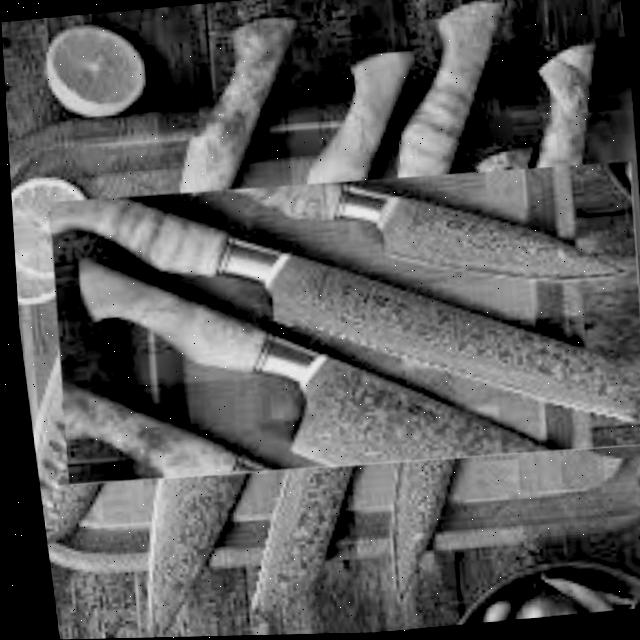knife: (70, 0, 483, 636), (171, 0, 576, 618), (39, 152, 640, 476), (0, 0, 357, 544), (324, 39, 640, 607), (70, 223, 553, 492), (227, 155, 626, 316)
